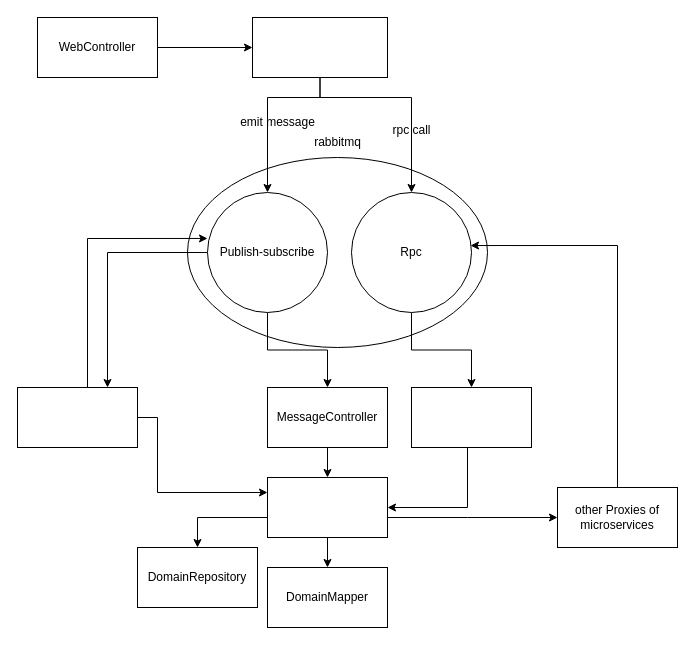
Image size: 695x645. Some labels were removed from this diagram. The shapes that lost their labels are listed below. From the top down, each one's centre as x and y in pixels, then its label:
At (320,47): "Service".
At (77,417): "Saga".
At (471,417): "RpcController".
At (327,507): "DomainService".
